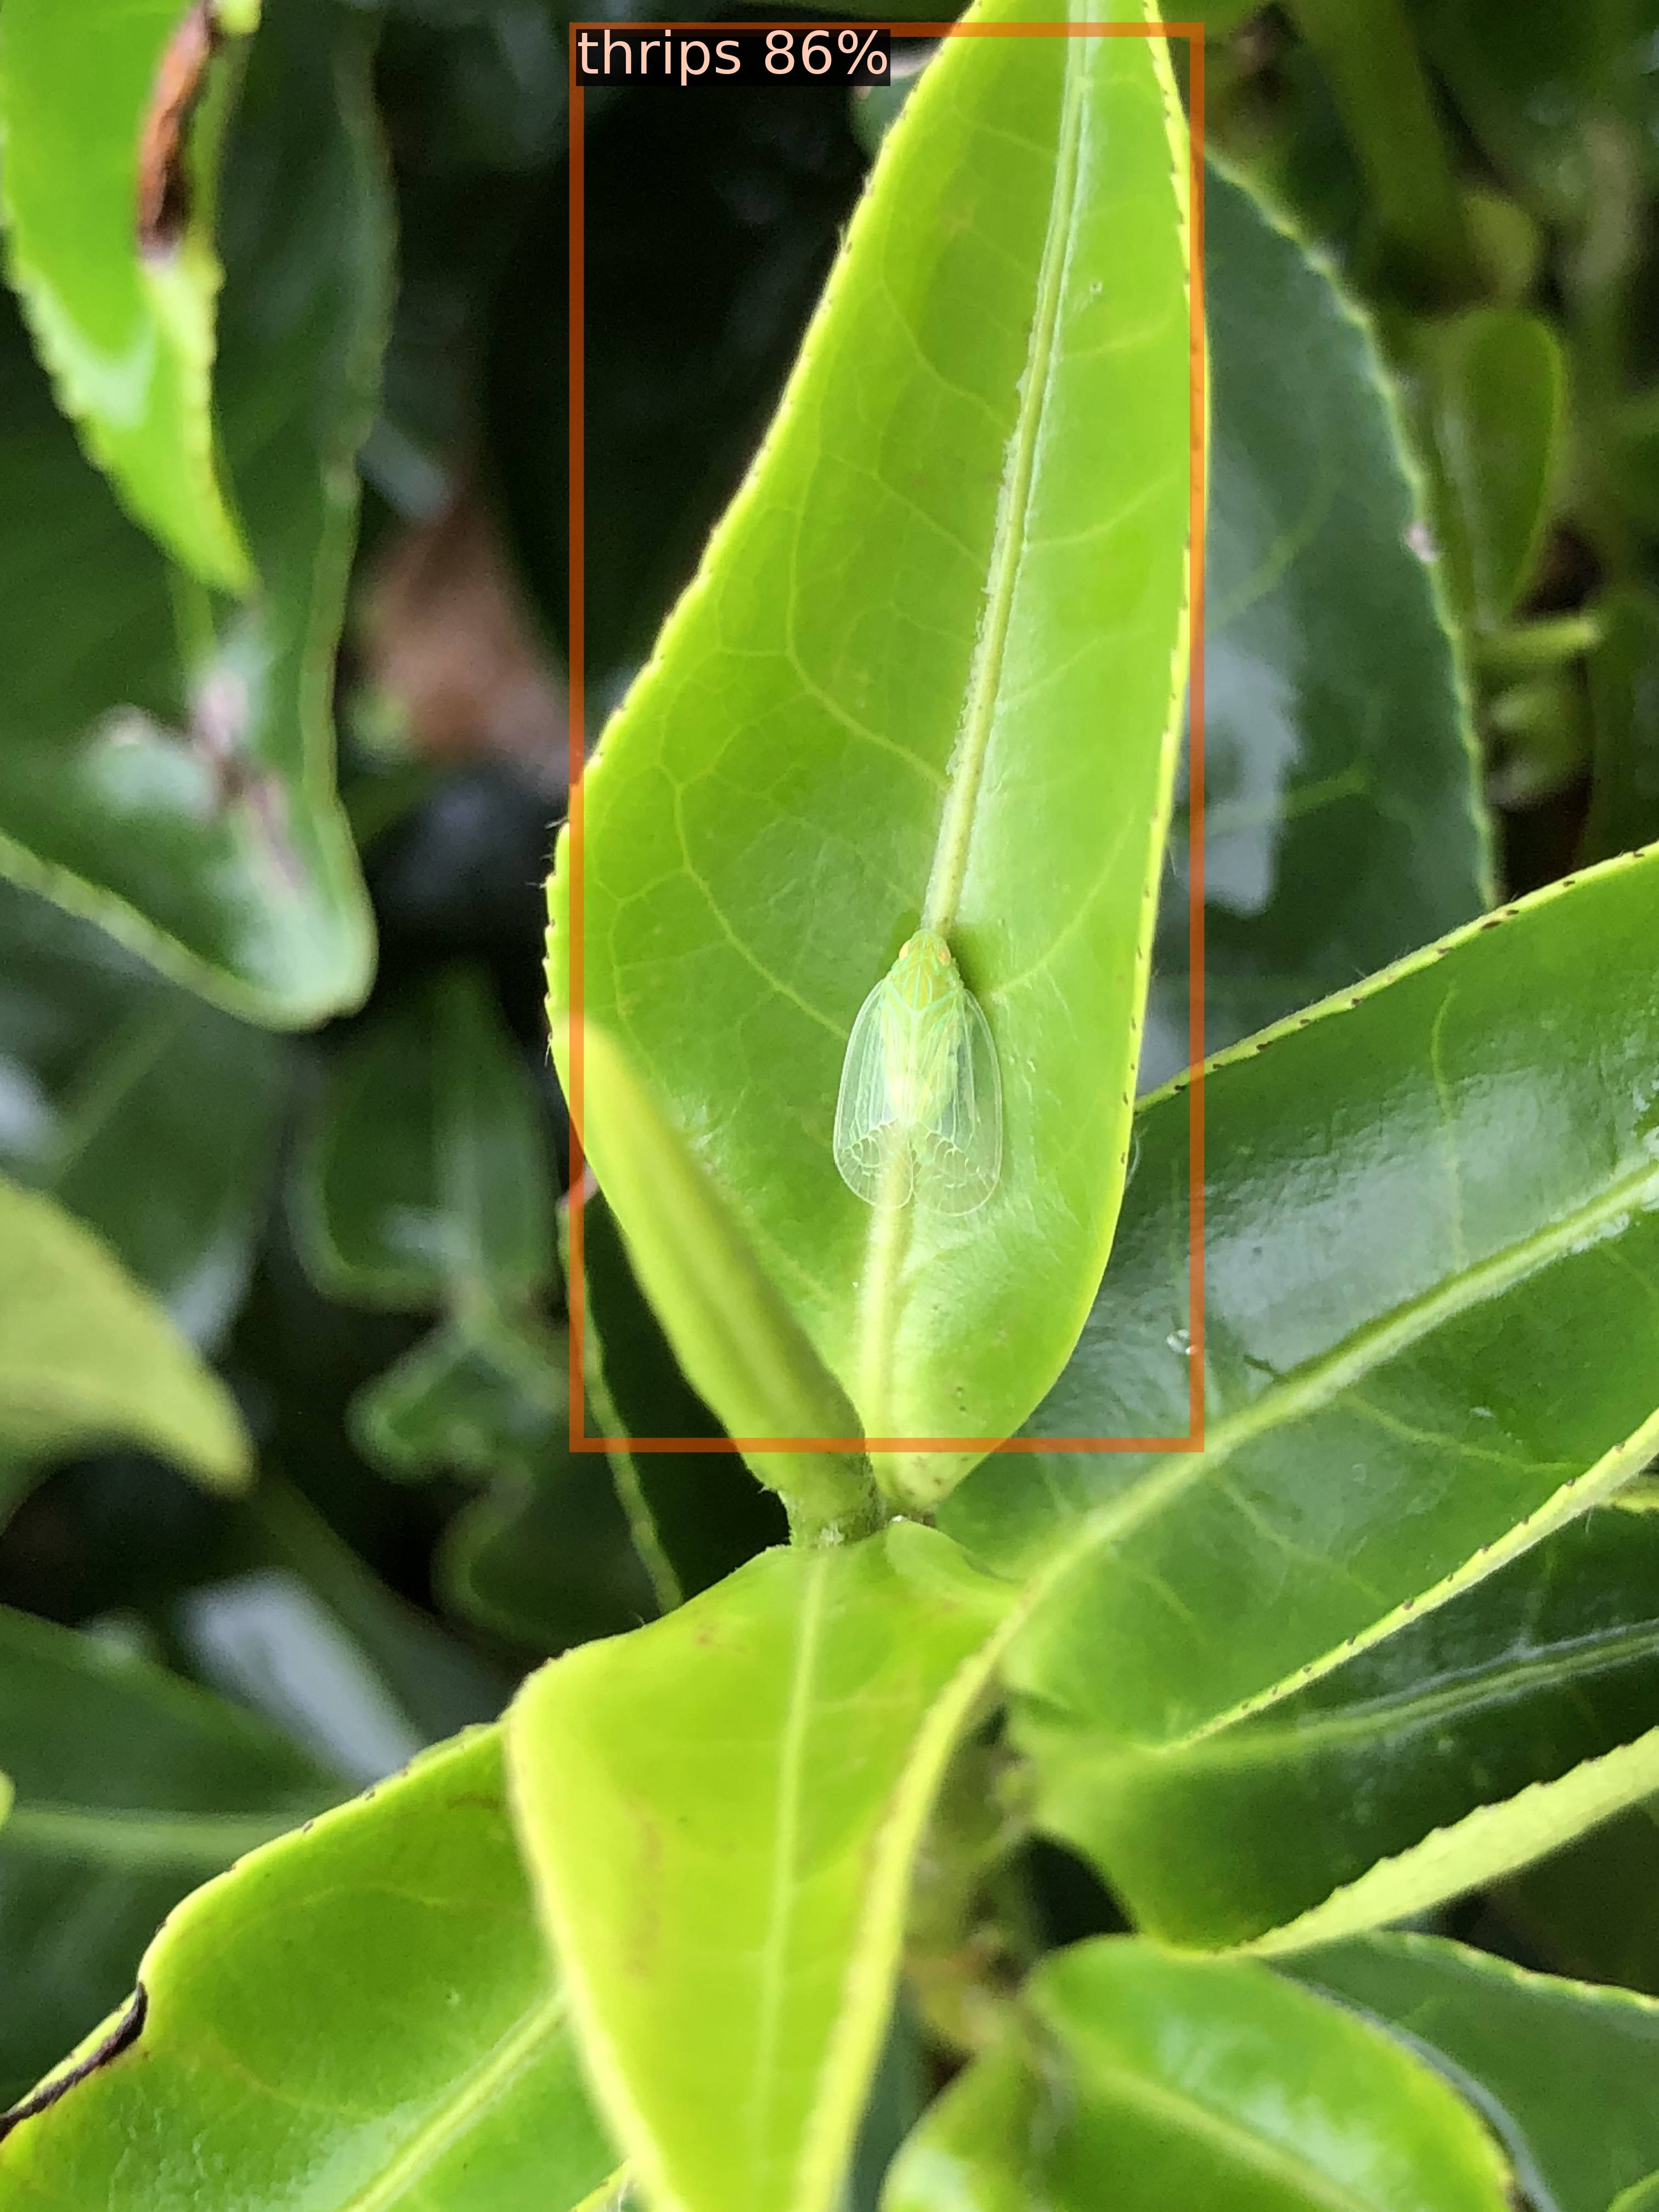thrips: (577, 30, 1197, 1444)
